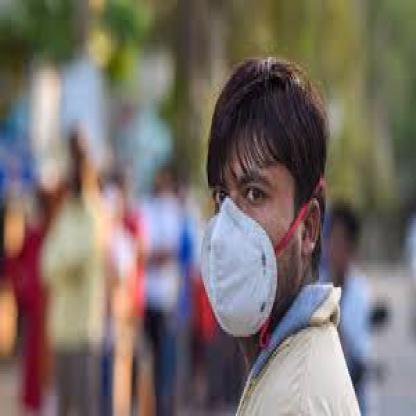Wearing_Mask: (204, 121, 301, 359)
